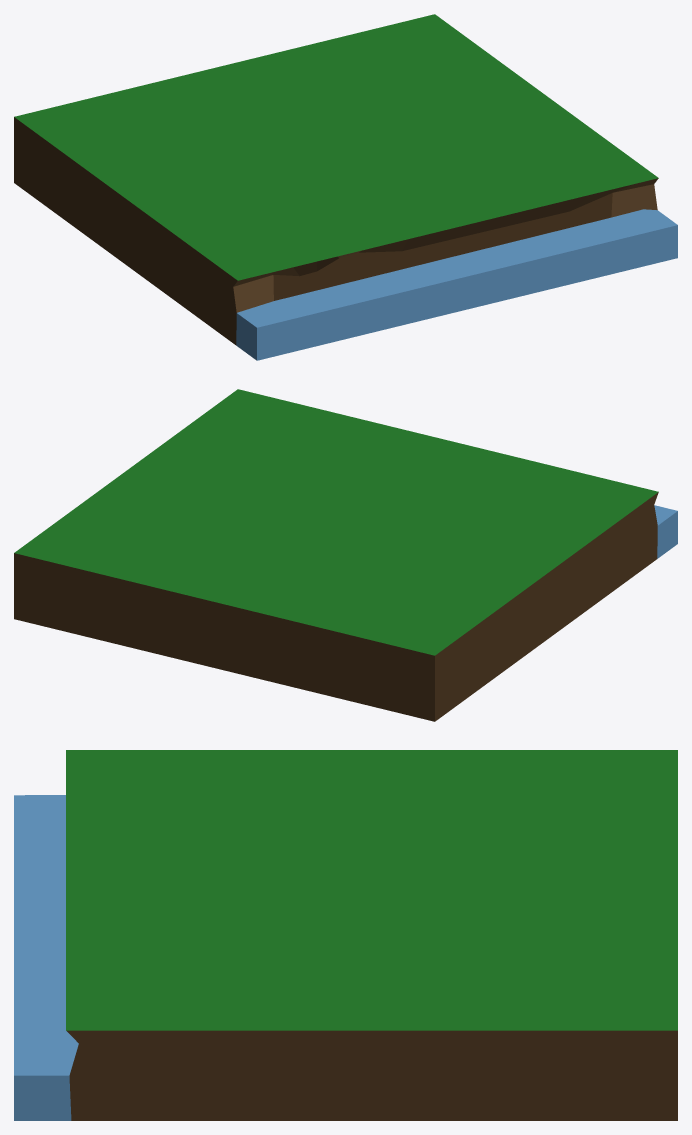
The model's file is Coast_Middle.fbx.
3 views of the same model, one above another, from view 1: azimuth 30°, elevation 25°; view 2: azimuth 150°, elevation 25°; view 3: azimuth 270°, elevation 25° (orthographic). The views are drawn at different scales.
Visible parts, largest first — view 1: Coast_Middle; view 2: Coast_Middle; view 3: Coast_Middle.
Boxes of the visible parts, x1,y1,x2,y2 form: Coast_Middle: [14, 14, 677, 360]; Coast_Middle: [14, 389, 677, 721]; Coast_Middle: [14, 750, 677, 1120].
Bounding box in the file's own units: 200 × 30 × 200.
